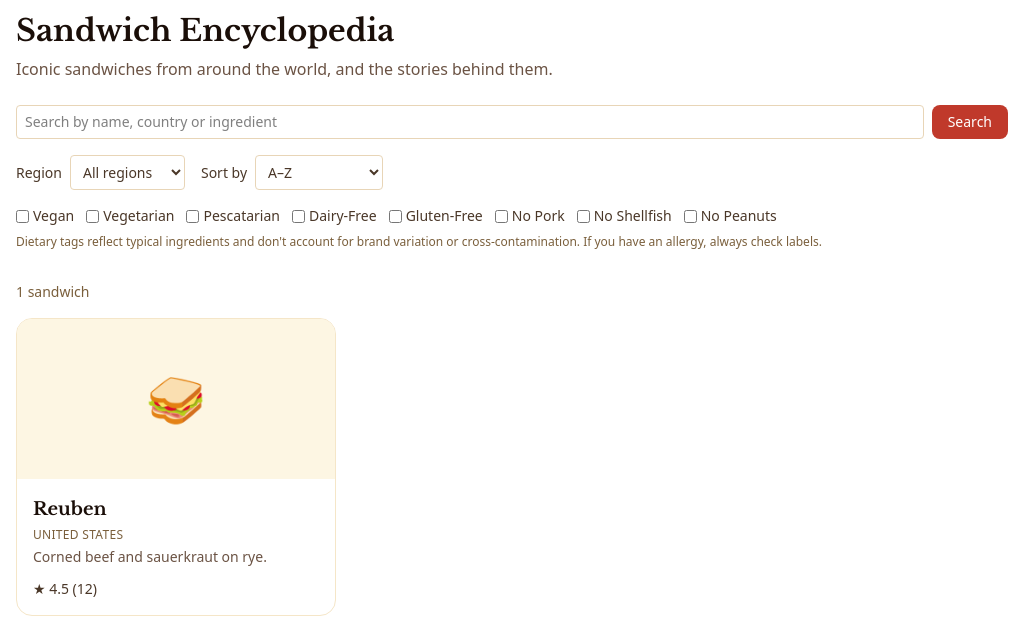
SandwichIndex search and filters › replaces the results with the new search results
Expected: the heading "Reuben" is shown, [33,498,107,520]
Type "banh" into the search field named "Search sandwiches". click: (470,122)
box: [16,105,924,139]
Then press Enter
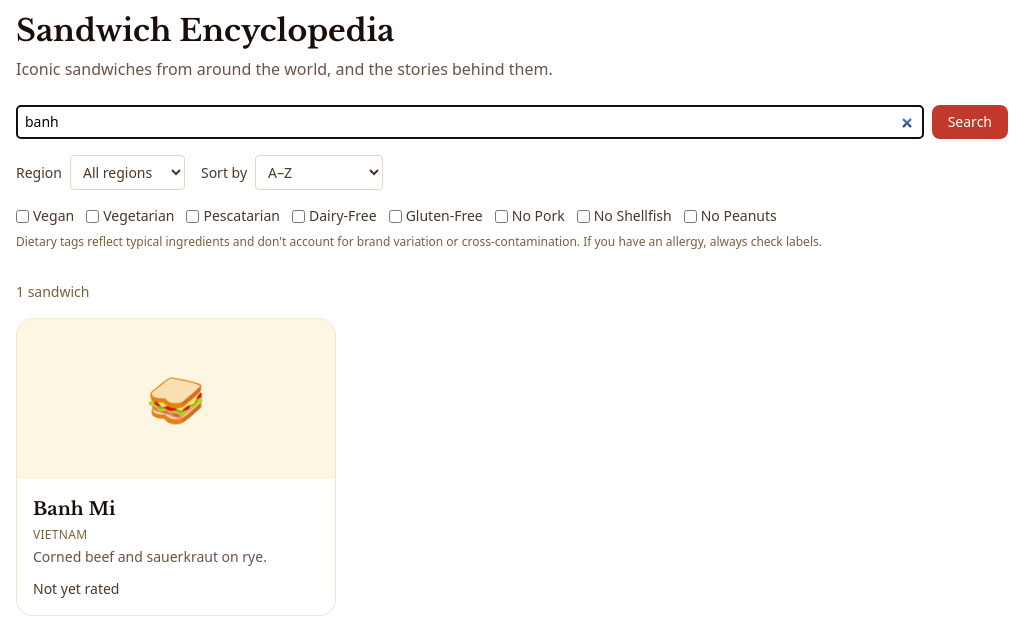
Now the heading "Banh Mi" is shown, box [33,498,116,520]
Now the link "Reuben" is gone
